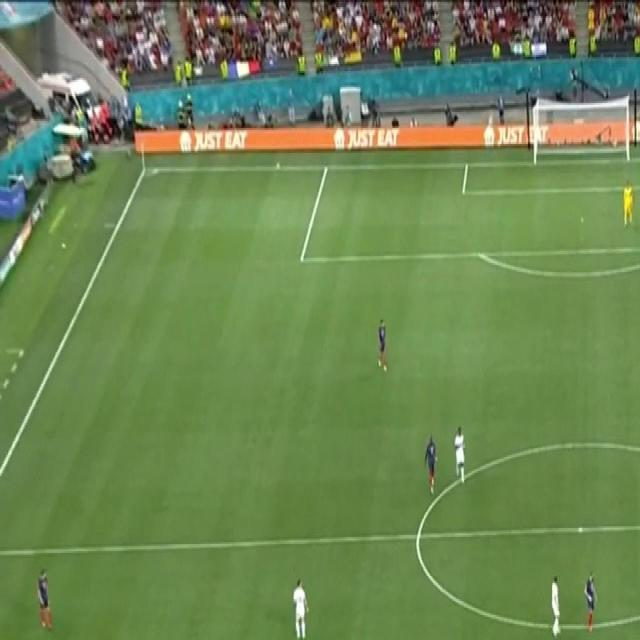player-white: (35, 563, 57, 638), (290, 569, 309, 640), (421, 430, 439, 497), (582, 565, 598, 636), (452, 422, 466, 496), (375, 313, 389, 381), (620, 175, 636, 231), (549, 569, 561, 640)
